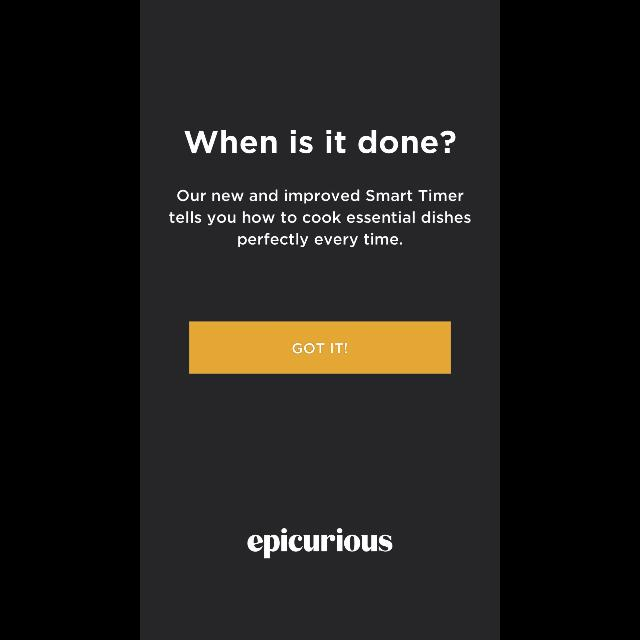text: (169, 190, 471, 248), (184, 130, 456, 154), (248, 528, 392, 558)
textbutton: (190, 322, 450, 374)
